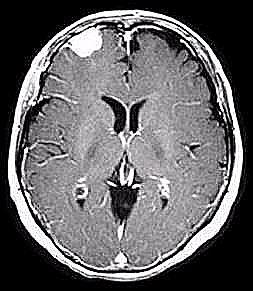Tumor: (60, 22, 107, 62)
